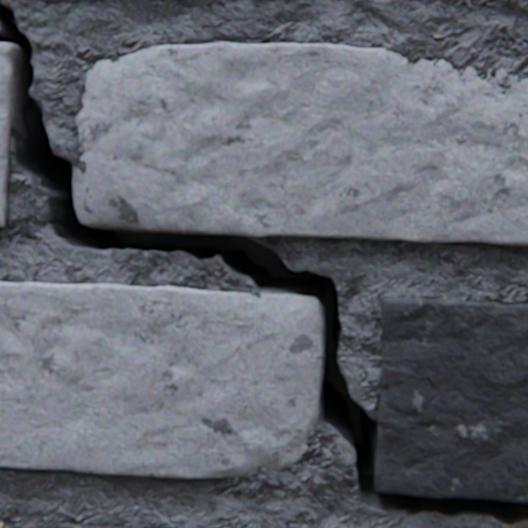brick: (76, 43, 527, 245), (0, 281, 320, 477), (374, 297, 527, 501), (0, 44, 15, 227), (60, 522, 142, 527), (0, 521, 3, 527)
crack: (0, 0, 527, 526)
